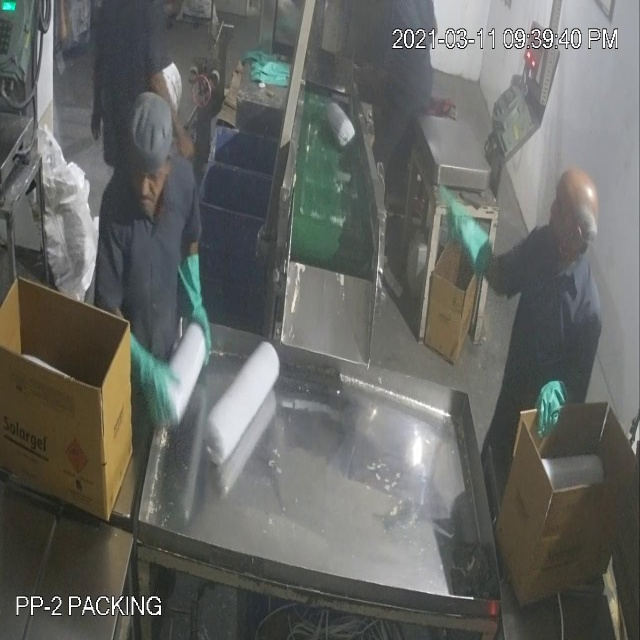Guantes: (429, 172, 498, 288), (530, 366, 569, 452)
